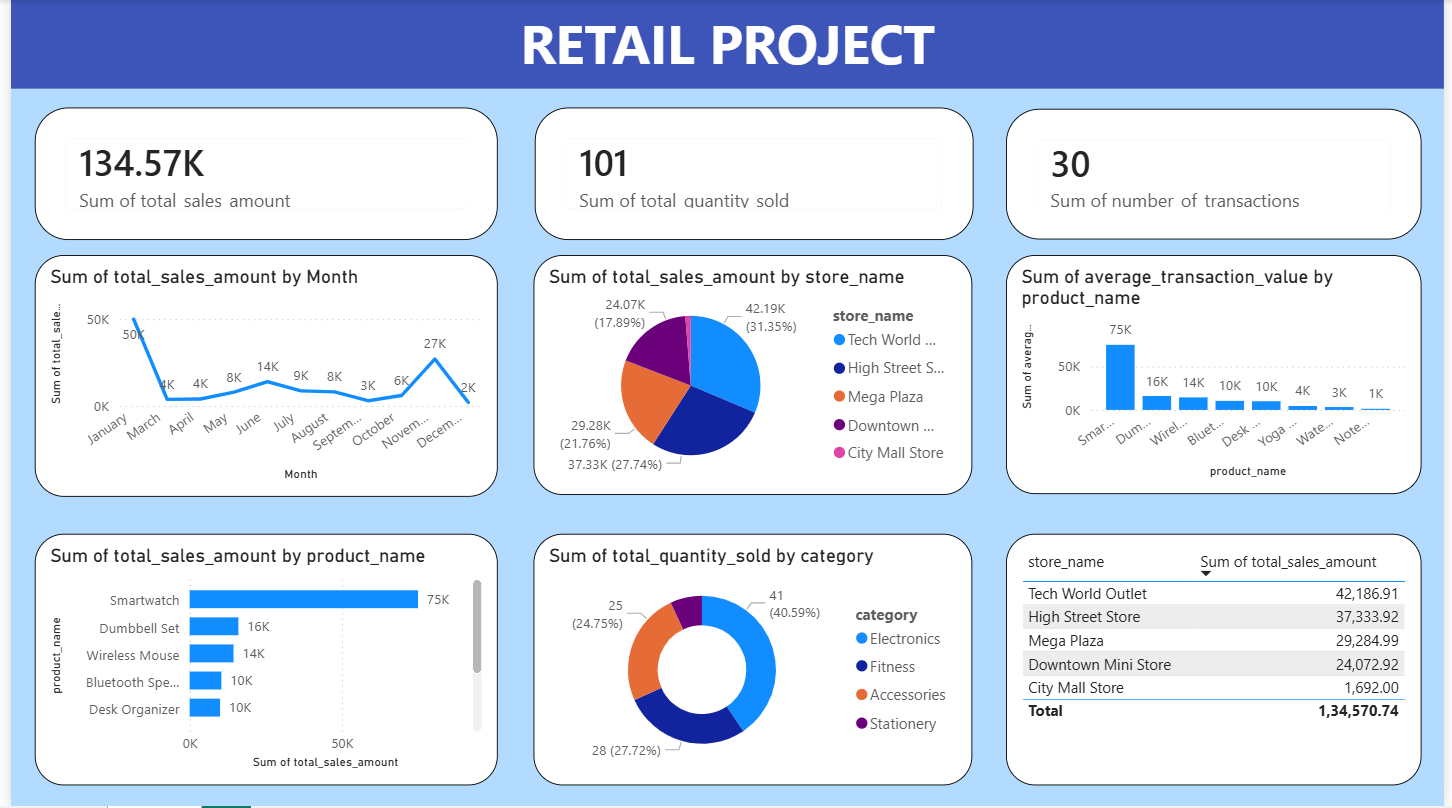

This screenshot's page, from the dashboard's own definition file:
{"tool":"powerbi","page":{"name":"Page 1","canvas":[1280,720],"ordinal":0},"visuals":[{"type":"textbox","box":[0,0,1280.3,79.6],"z":0},{"type":"cardVisual","fields":{"Data":["Sum(retail_project___multiple_table.total_sales_amount)"]},"box":[20.7,96.4,413.7,118.4],"z":1000},{"type":"cardVisual","fields":{"Data":["Sum(retail_project___multiple_table.total_quantity_sold)"]},"box":[467.4,96.4,391.8,118.4],"z":2000},{"type":"cardVisual","fields":{"Data":["Sum(retail_project___multiple_table.number_of_transactions)"]},"box":[888.5,97.6,371,117.2],"z":3000},{"type":"lineChart","fields":{"Category":["retail_project___multiple_table.transaction_date.Variation.Date Hierarchy.Month"],"Y":["Sum(retail_project___multiple_table.total_sales_amount)"]},"box":[20.7,228.2,413.7,216],"z":4000},{"type":"pieChart","fields":{"Y":["Sum(retail_project___multiple_table.total_sales_amount)"],"Category":["retail_project___multiple_table.store_name"]},"box":[466.2,228.2,391.8,214.8],"z":5000},{"type":"barChart","fields":{"Category":["retail_project___multiple_table.product_name"],"Y":["Sum(retail_project___multiple_table.total_sales_amount)"]},"box":[20.7,477.2,413.7,224.6],"z":6000},{"type":"donutChart","fields":{"Category":["retail_project___multiple_table.category"],"Y":["Sum(retail_project___multiple_table.total_quantity_sold)"]},"box":[466.2,477.2,391.8,224.6],"z":7000},{"type":"columnChart","fields":{"Y":["Sum(retail_project___multiple_table.average_transaction_value)"],"Category":["retail_project___multiple_table.product_name"]},"box":[888.5,228.2,371,213.6],"z":7001},{"type":"tableEx","fields":{"Values":["retail_project___multiple_table.store_name","Sum(retail_project___multiple_table.total_sales_amount)"]},"box":[888.5,477.2,371,224.6],"z":7002}]}

Visuals, with their boxes in screenshot pixels (x1, y1, x2, y2), scaled from the page's 1280x720 canvas onto the 1452x808 screenshot:
textbox: (0, 0, 1451, 89)
cardVisual - Sum(retail_project___multiple_table.total_sales_amount): (23, 108, 493, 241)
cardVisual - Sum(retail_project___multiple_table.total_quantity_sold): (530, 108, 975, 241)
cardVisual - Sum(retail_project___multiple_table.number_of_transactions): (1008, 110, 1429, 241)
lineChart - retail_project___multiple_table.transaction_date.Variation.Date Hierarchy.Month x Sum(retail_project___multiple_table.total_sales_amount): (23, 256, 493, 498)
pieChart - Sum(retail_project___multiple_table.total_sales_amount) x retail_project___multiple_table.store_name: (529, 256, 973, 497)
barChart - retail_project___multiple_table.product_name x Sum(retail_project___multiple_table.total_sales_amount): (23, 536, 493, 788)
donutChart - retail_project___multiple_table.category x Sum(retail_project___multiple_table.total_quantity_sold): (529, 536, 973, 788)
columnChart - Sum(retail_project___multiple_table.average_transaction_value) x retail_project___multiple_table.product_name: (1008, 256, 1429, 496)
tableEx - retail_project___multiple_table.store_name x Sum(retail_project___multiple_table.total_sales_amount): (1008, 536, 1429, 788)
